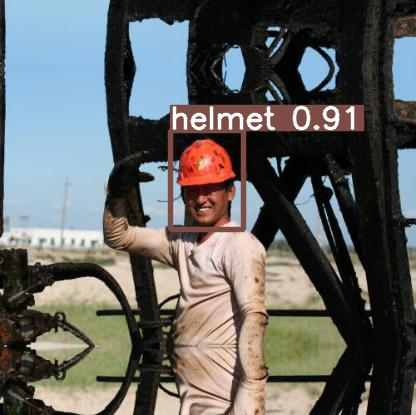helmet: (170, 130, 243, 229)
